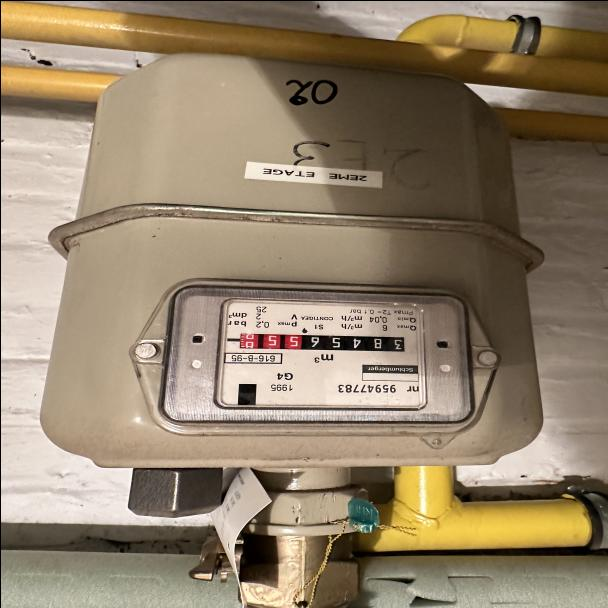3: (388, 333, 404, 354)
4: (344, 330, 365, 353)
5: (278, 331, 302, 351), (302, 332, 324, 352), (260, 330, 280, 350), (328, 331, 344, 353)
8: (235, 330, 258, 352), (370, 332, 384, 352)
counter: (298, 330, 410, 354)
